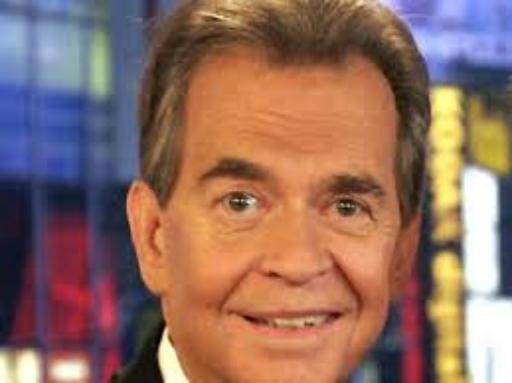left_eye: (324, 199, 371, 221)
left_lip_corner: (329, 307, 351, 323)
right_eye: (211, 193, 263, 214)
right_lip_corner: (220, 306, 249, 328)
